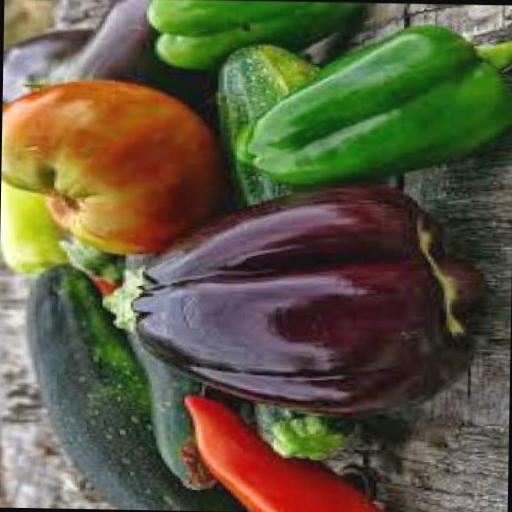biodegradable: (96, 176, 486, 416), (206, 38, 368, 457), (14, 263, 240, 510), (227, 18, 512, 188), (52, 233, 218, 487), (0, 76, 227, 254), (177, 391, 392, 512), (46, 0, 216, 107), (142, 0, 365, 69), (2, 26, 88, 115), (0, 180, 68, 272)
